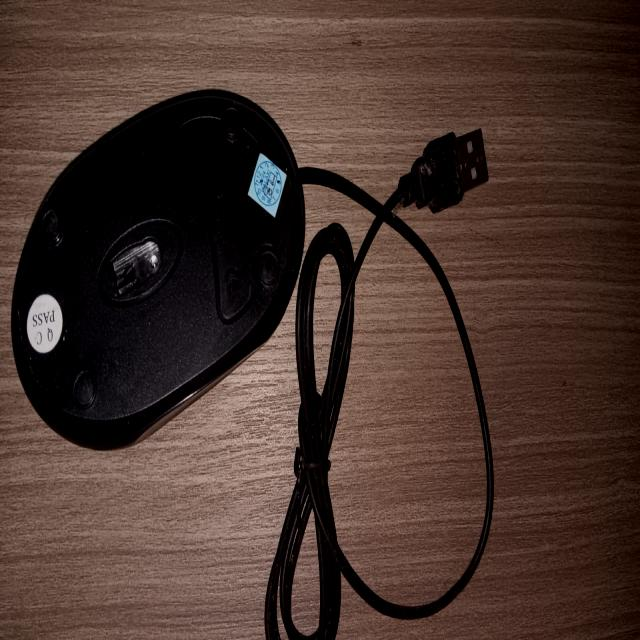elektronik: (18, 83, 502, 579)
